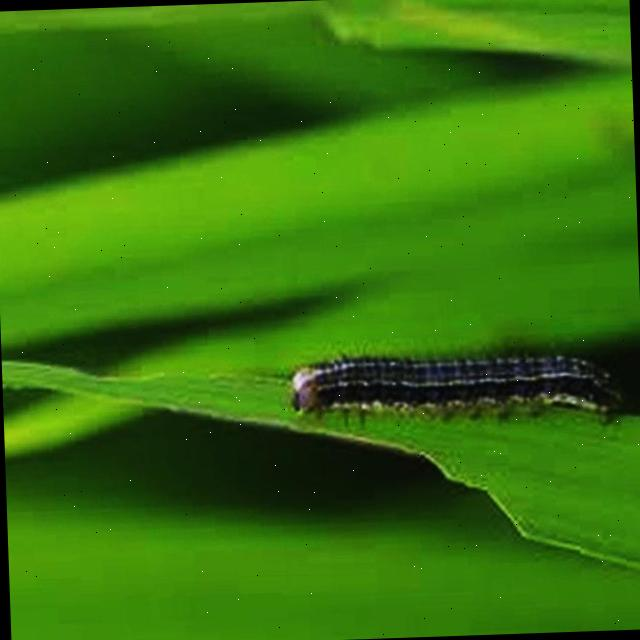worm: (288, 343, 628, 435)
